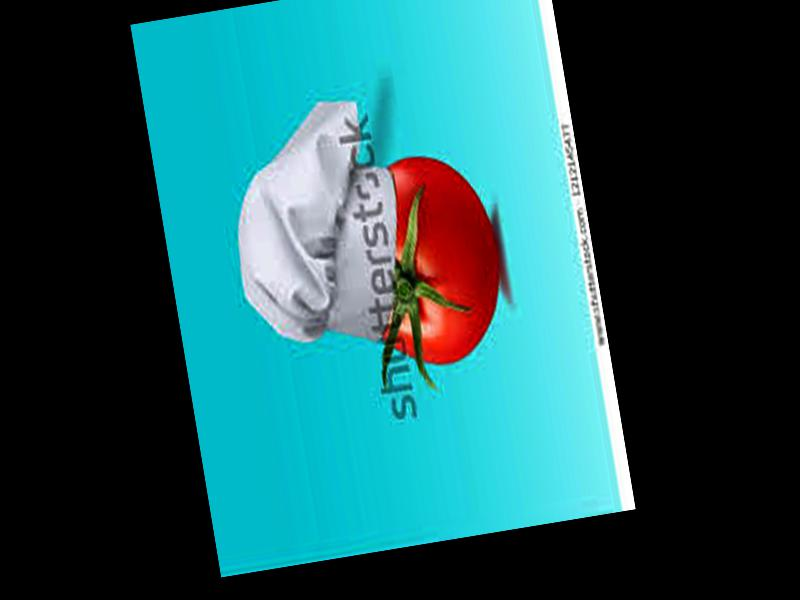Tomato: (353, 147, 510, 369)
